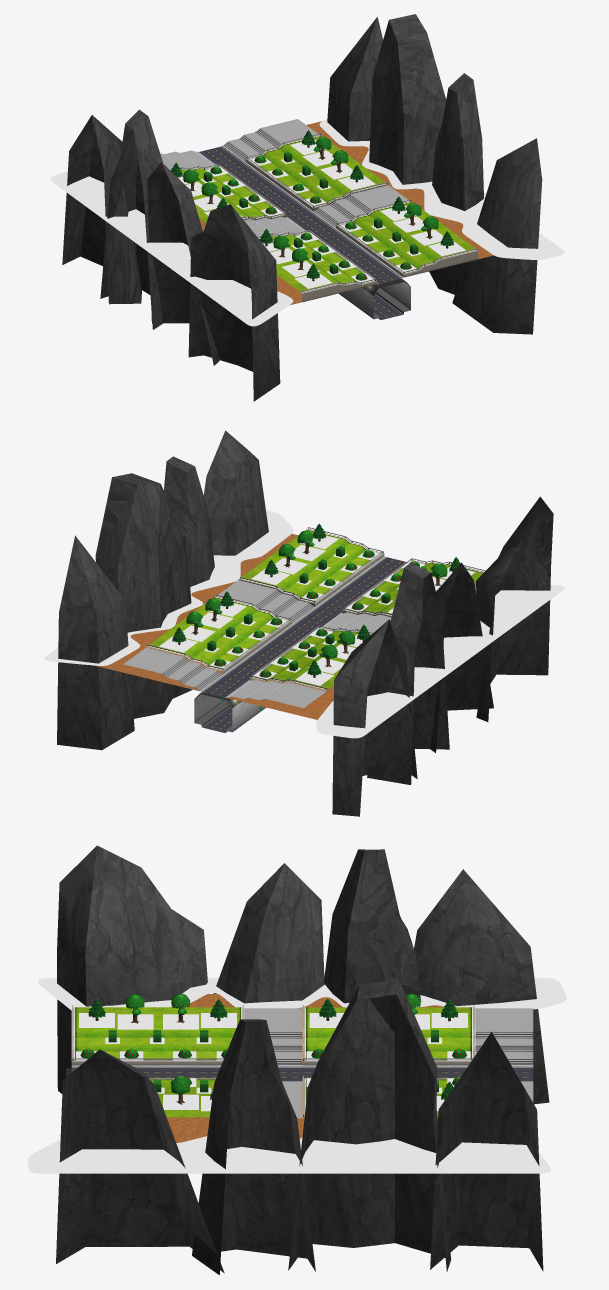
File: Mexico_06.fbx
3 views of the same model, one above another, from view 1: azimuth 30°, elevation 25°; view 2: azimuth 150°, elevation 25°; view 3: azimuth 270°, elevation 25° (orthographic). The views are drawn at different scales.
Parts seen in each view (by area): view 1: Mexico_06; view 2: Mexico_06; view 3: Mexico_06.
Boxes of the visible parts, bbox=[...] form: Mexico_06: bbox=[50, 14, 564, 401]; Mexico_06: bbox=[44, 430, 564, 816]; Mexico_06: bbox=[28, 845, 566, 1275].
Bounding box in the file's own units: 22617 × 13384 × 25170.
10 materials, 10 textured.
